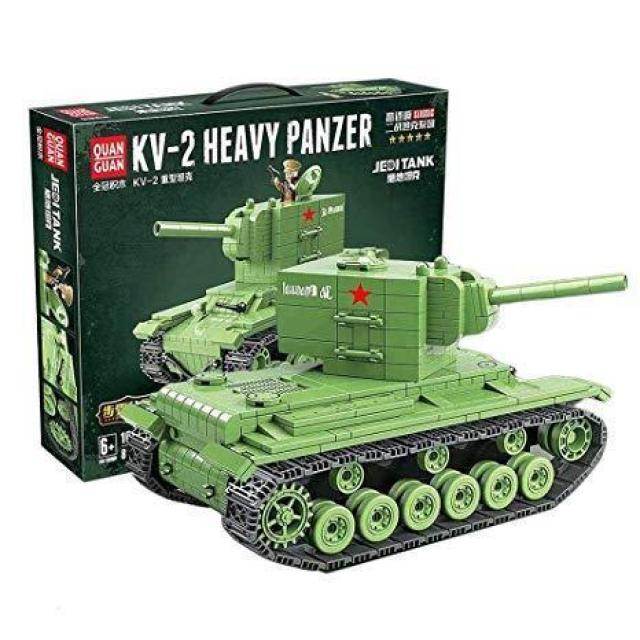Tanks: (165, 236, 568, 566)
